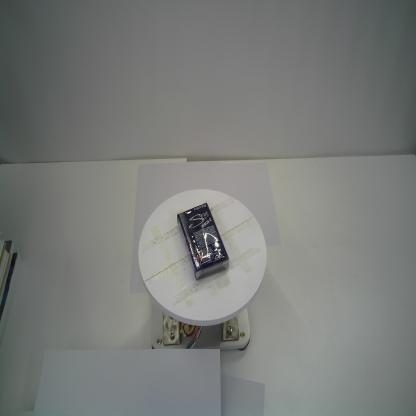Gum: (176, 202, 230, 282)
